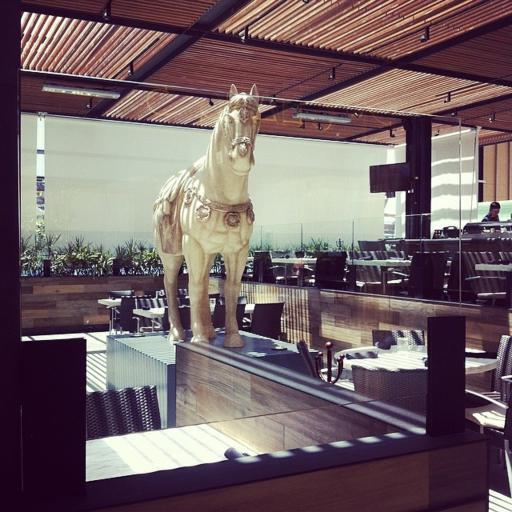horse: (154, 82, 264, 346)
